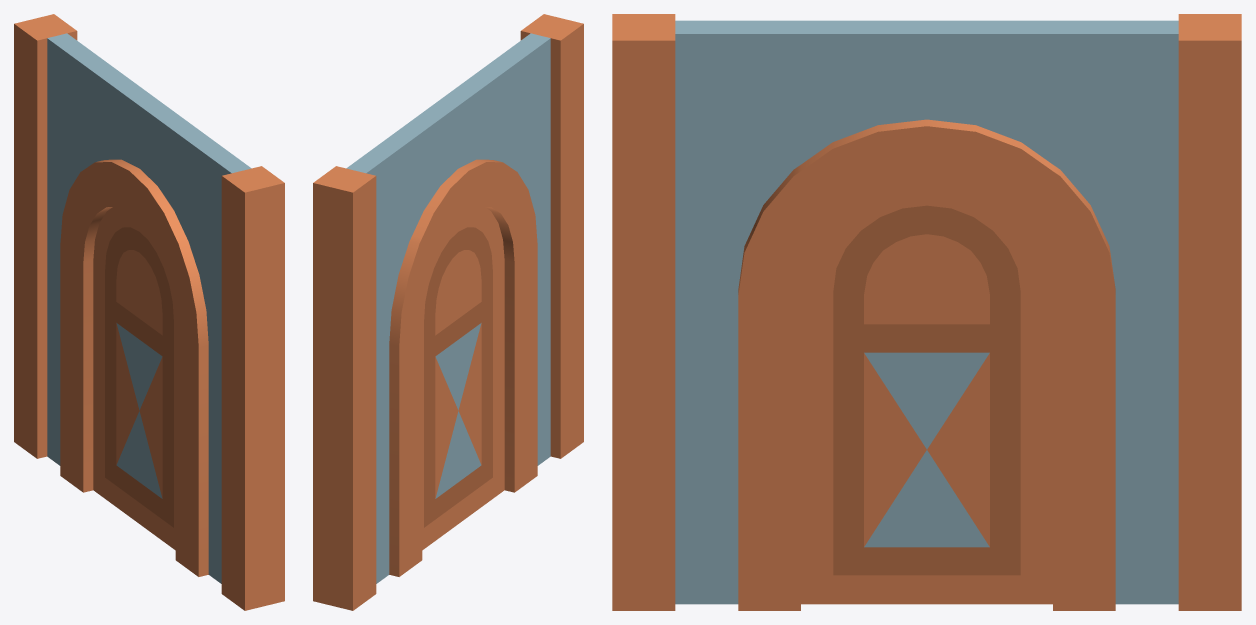
File: wallDoor.obj
3 views of the same model, side by side, from view 1: azimuth 30°, elevation 25°; view 2: azimuth 150°, elevation 25°; view 3: azimuth 270°, elevation 25° (orthographic). The views are drawn at different scales.
Visible parts, largest first — view 1: wallDoor, door; view 2: wallDoor, door; view 3: wallDoor, door.
Part boxes in pixels (x1,y1,x2,y2): wallDoor: (14,14,284,610); door: (93,207,175,550); wallDoor: (313,14,583,610); door: (422,207,504,550); wallDoor: (612,14,1241,610); door: (801,183,1052,604).
Size of the model in its own units: 0.1 by 1 by 1.
